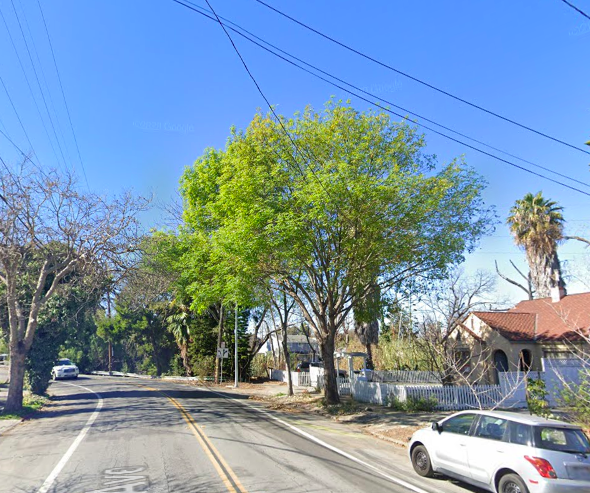tree: (177, 93, 503, 406)
